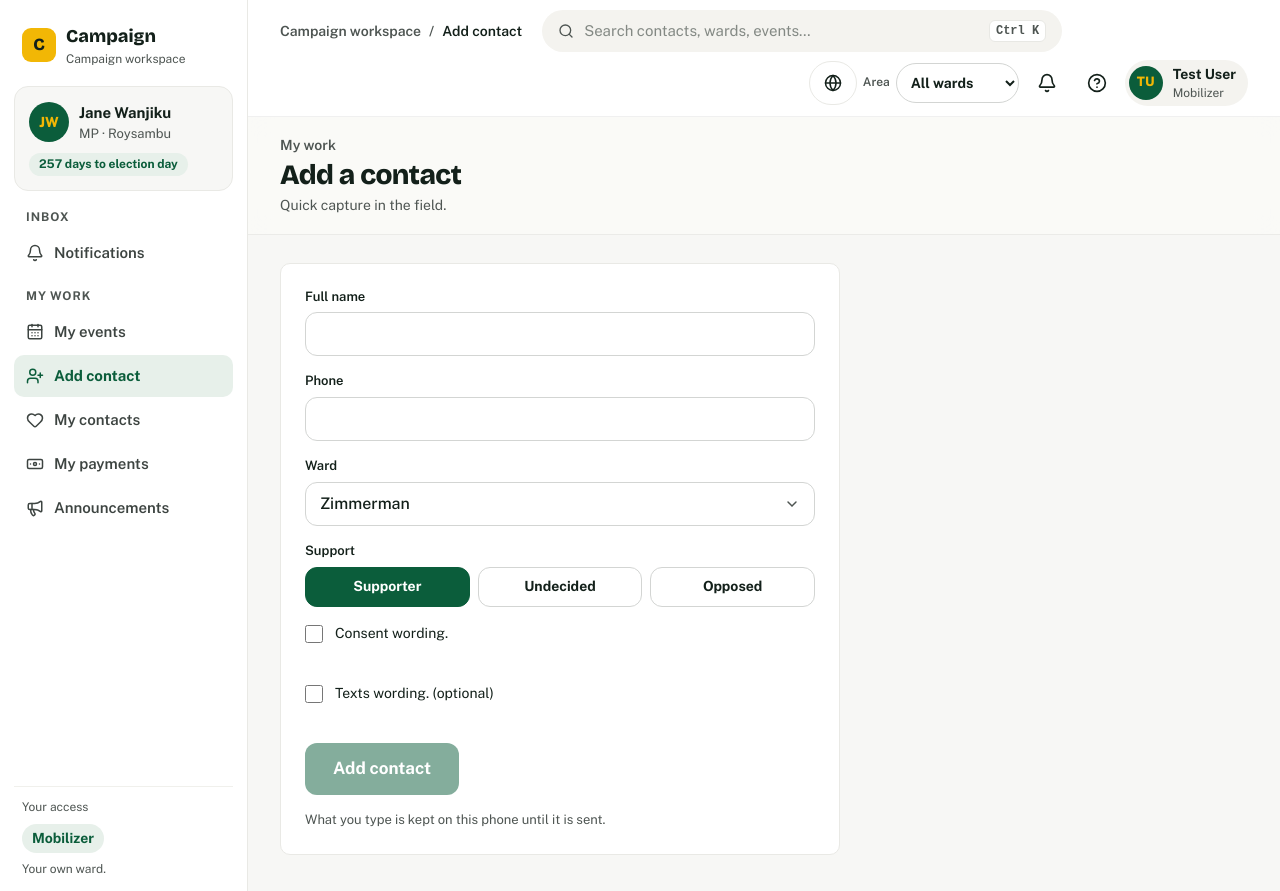
Test: registering a supporter in the field › keeps the entry when the network drops, and sends it again on Try again
In the field labelled "Full name": (560, 334) 305,312 -> 815,356, type "Wanjiku Njeri"
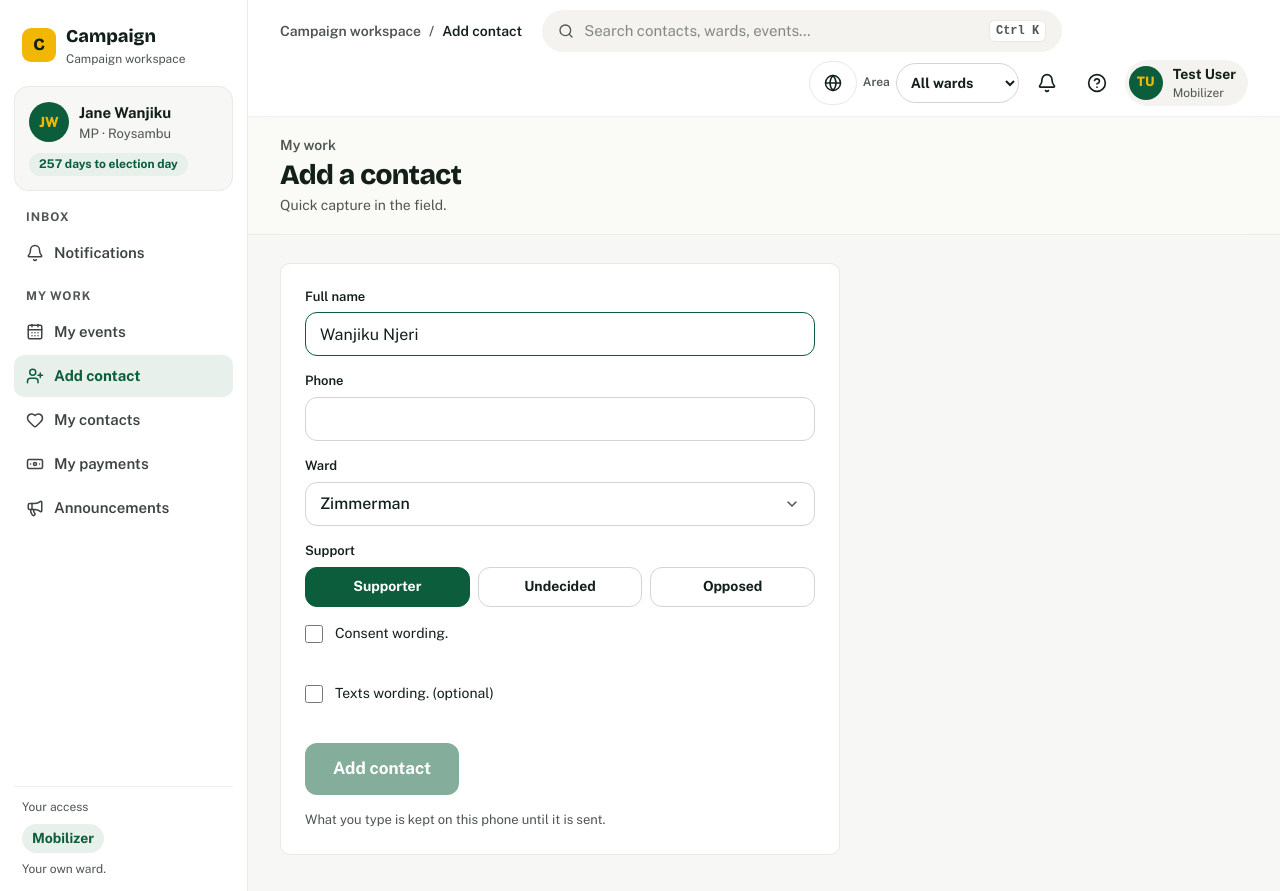
Click the checkbox labelled "Consent wording.": (314, 634) 305,625 -> 323,643
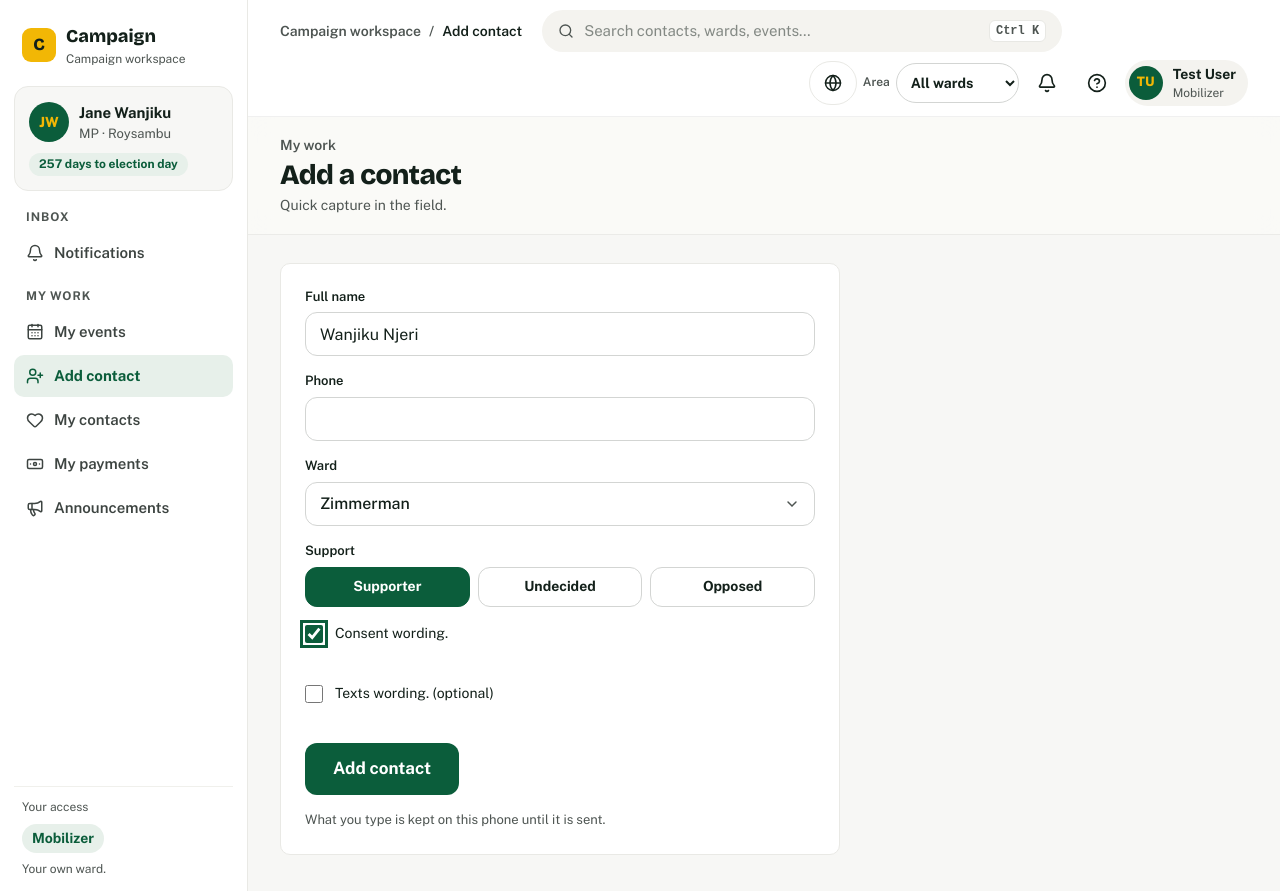
Click the button "Add contact": (382, 769) 305,743 -> 459,795
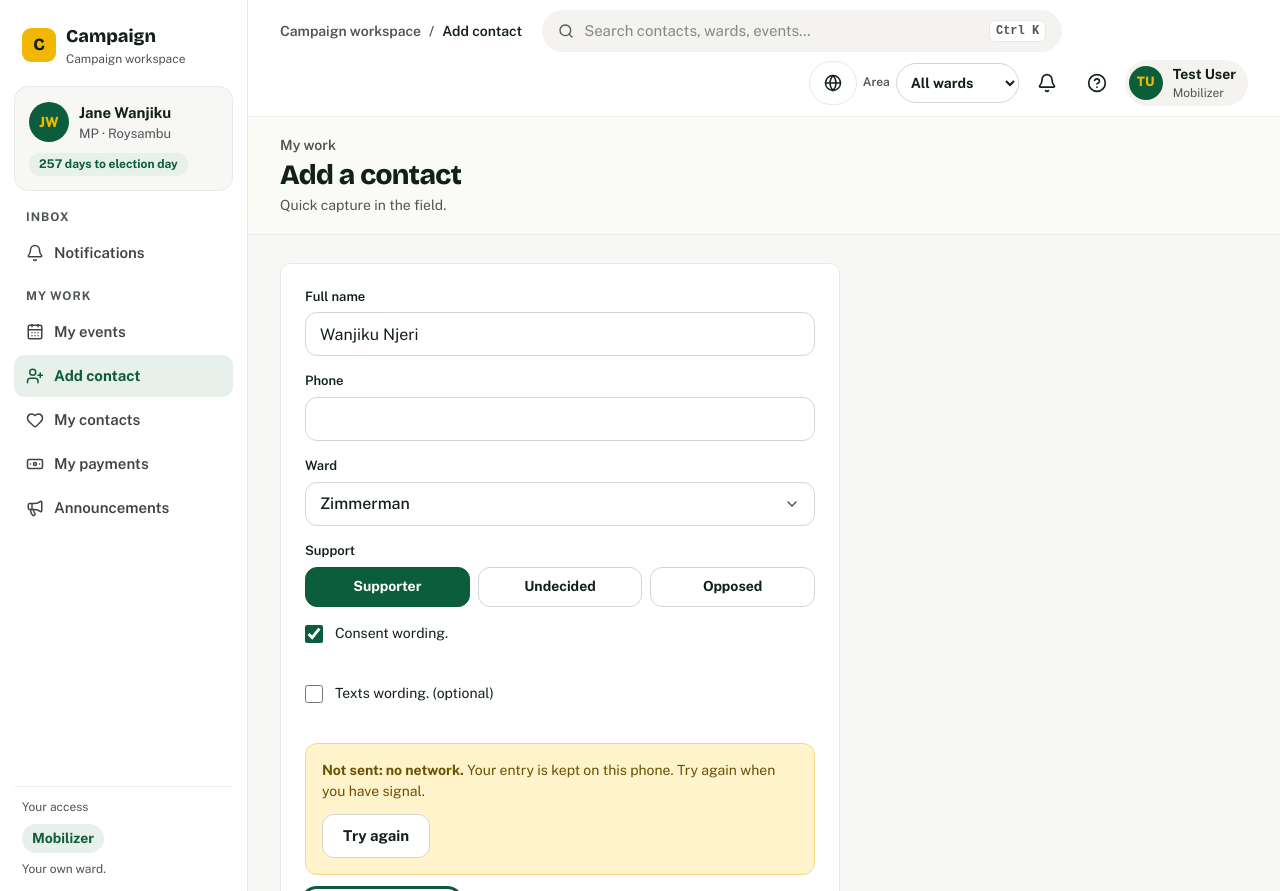
Now the text "Not sent: no network." is shown, box 322,762 -> 464,778
Click the button "Try again": (376, 836) 322,814 -> 430,858
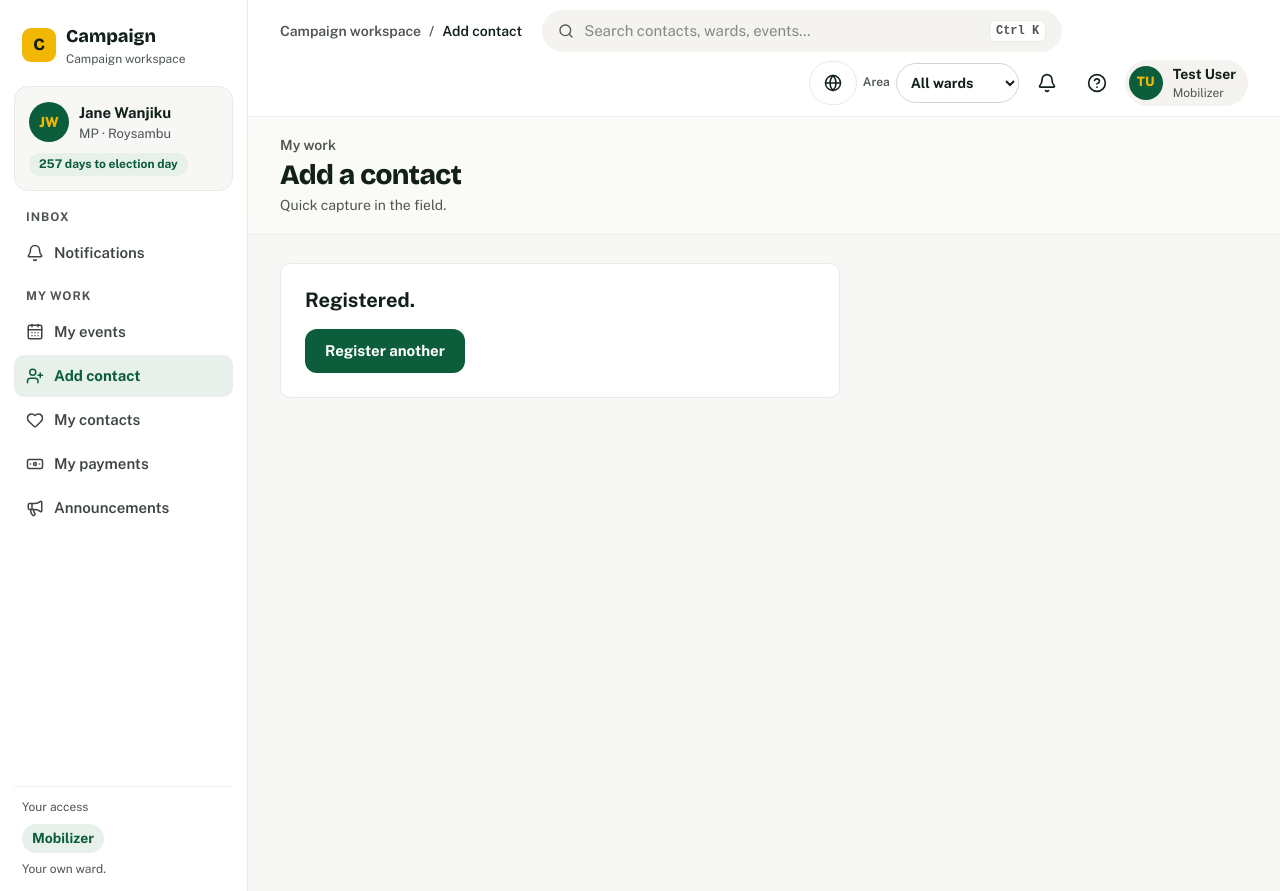
Now the text "Registered." is shown, box 305,288 -> 415,312
